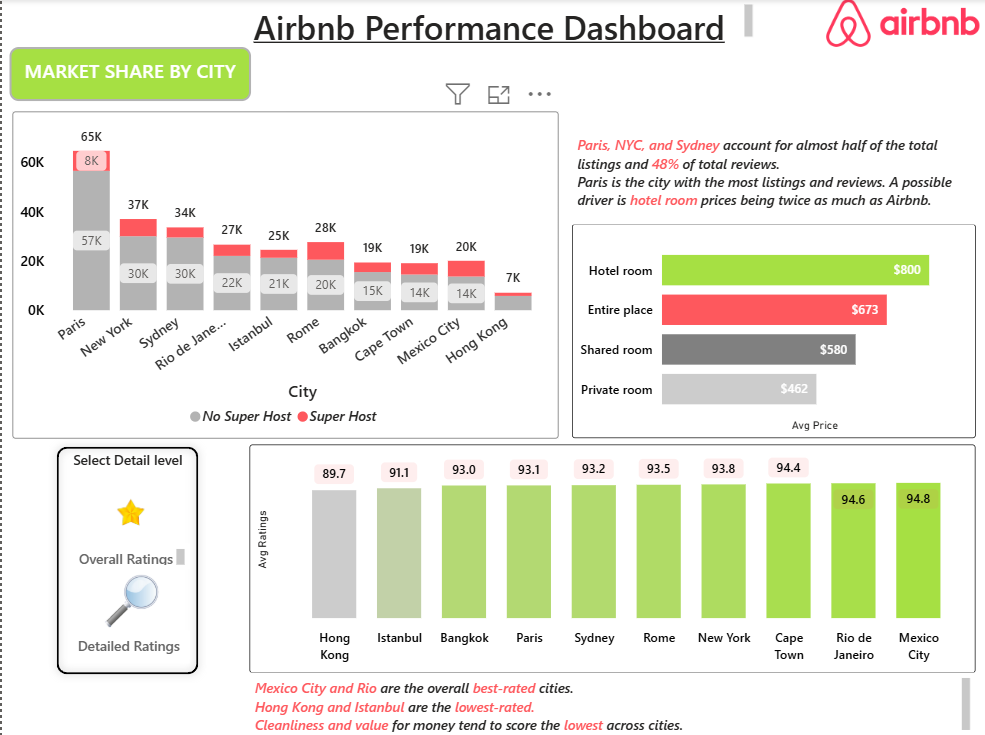

This screenshot's page, from the dashboard's own definition file:
{"tool":"powerbi","page":{"name":"Ratings","canvas":[960,720],"ordinal":1},"visuals":[{"type":"textbox","box":[220.7,0,515.9,46.8],"z":0},{"type":"image","box":[795,0,165.1,46.8],"z":1000},{"type":"textbox","box":[7.3,46.8,235.3,52.6],"z":2000},{"type":"lineStackedColumnComboChart","fields":{"Category":["Listings.city"],"Y":["Listings.No Super Host","Listings.Super Host"]},"box":[10.2,109.6,532,318.6],"z":3000},{"type":"barChart","fields":{"Category":["Listings.room_type"],"Y":["Listings.Avg Price"]},"box":[554.7,219.4,393.1,208.8],"z":4000},{"type":"columnChart","fields":{"Y":["Listings.Avg Ratings"],"Category":["Listings.city"]},"box":[240.8,434.3,707,222.5],"z":5000},{"type":"shape","box":[45.7,428.2,153.9,237.7],"z":6000},{"type":"image","box":[87.5,470.9,77.7,59.7],"z":7000,"group":"g1"},{"type":"textbox","box":[64,434.3,118.9,36.6],"z":8000},{"type":"image","box":[87.4,557.7,77.5,57],"z":8000,"group":"g2"},{"type":"group","id":"g1","title":"Group 1","box":[67,470.9,115.8,85.3],"z":9000},{"type":"textbox","box":[67,530.6,115.8,25.6],"z":9002,"group":"g1"},{"type":"textbox","box":[64,614.7,118.4,32.2],"z":9003,"group":"g2"},{"type":"group","id":"g2","title":"Group 2","box":[64,557.7,118.9,88.4],"z":10000},{"type":"textbox","box":[554.7,126.5,393.1,93],"z":11000},{"type":"textbox","box":[240.8,656.8,707,62.5],"z":12000}]}

Visuals, with their boxes in screenshot pixels (x1, y1, x2, y2), scaled from the page's 960x720 canvas onto the 985x735 screenshot:
textbox: x1=226 y1=0 x2=756 y2=48
image: x1=816 y1=0 x2=984 y2=48
textbox: x1=7 y1=48 x2=249 y2=101
lineStackedColumnComboChart - Listings.city x Listings.No Super Host: x1=10 y1=112 x2=556 y2=437
barChart - Listings.room_type x Listings.Avg Price: x1=569 y1=224 x2=972 y2=437
columnChart - Listings.Avg Ratings x Listings.city: x1=247 y1=443 x2=972 y2=670
shape: x1=47 y1=437 x2=205 y2=680
image: x1=90 y1=481 x2=170 y2=542
textbox: x1=66 y1=443 x2=188 y2=481
image: x1=90 y1=569 x2=169 y2=628
"Group 1" group: x1=69 y1=481 x2=188 y2=568
textbox: x1=69 y1=542 x2=188 y2=568
textbox: x1=66 y1=628 x2=187 y2=660
"Group 2" group: x1=66 y1=569 x2=188 y2=660
textbox: x1=569 y1=129 x2=972 y2=224
textbox: x1=247 y1=670 x2=972 y2=734
